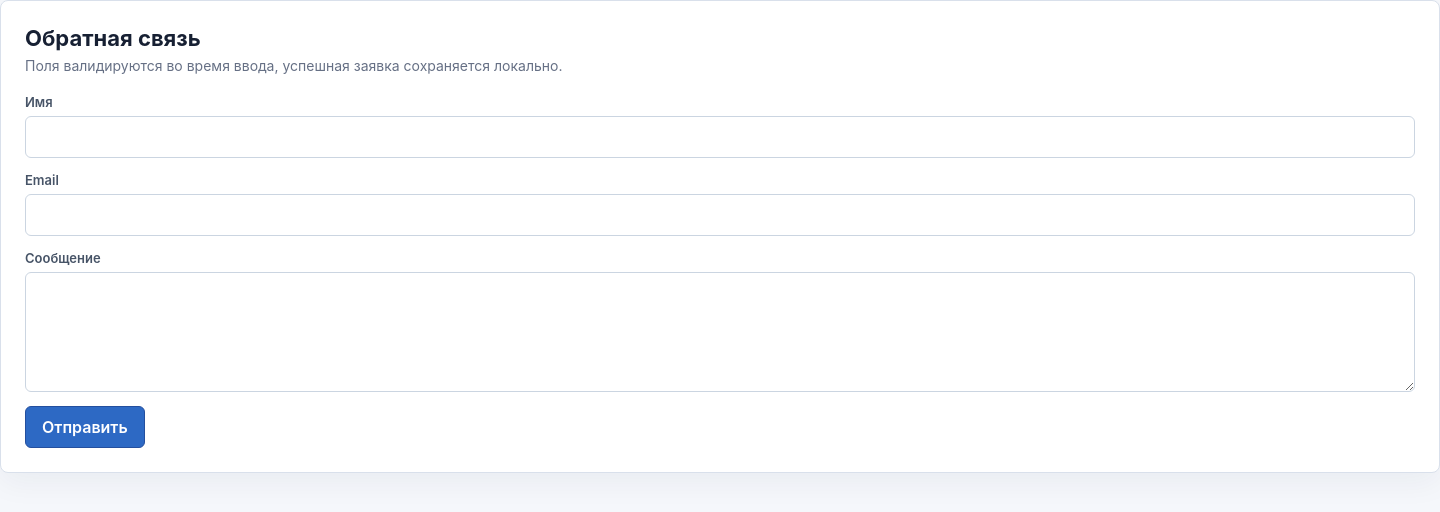
it: FeedbackForm › shows an error for invalid email
The width and height of the screenshot is (1440, 512).
In the field labelled "Имя": (720, 137) [25, 116, 1415, 158], type "Konstantin"
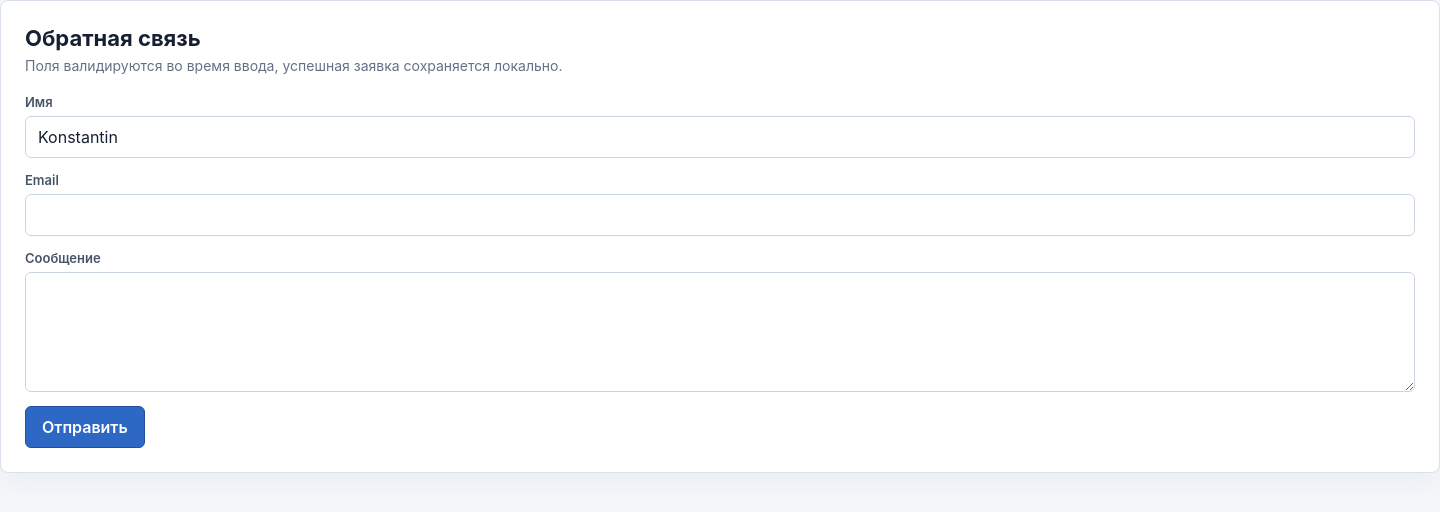
In the field labelled "Email": (720, 215) [25, 194, 1415, 236], type "wrong-email"
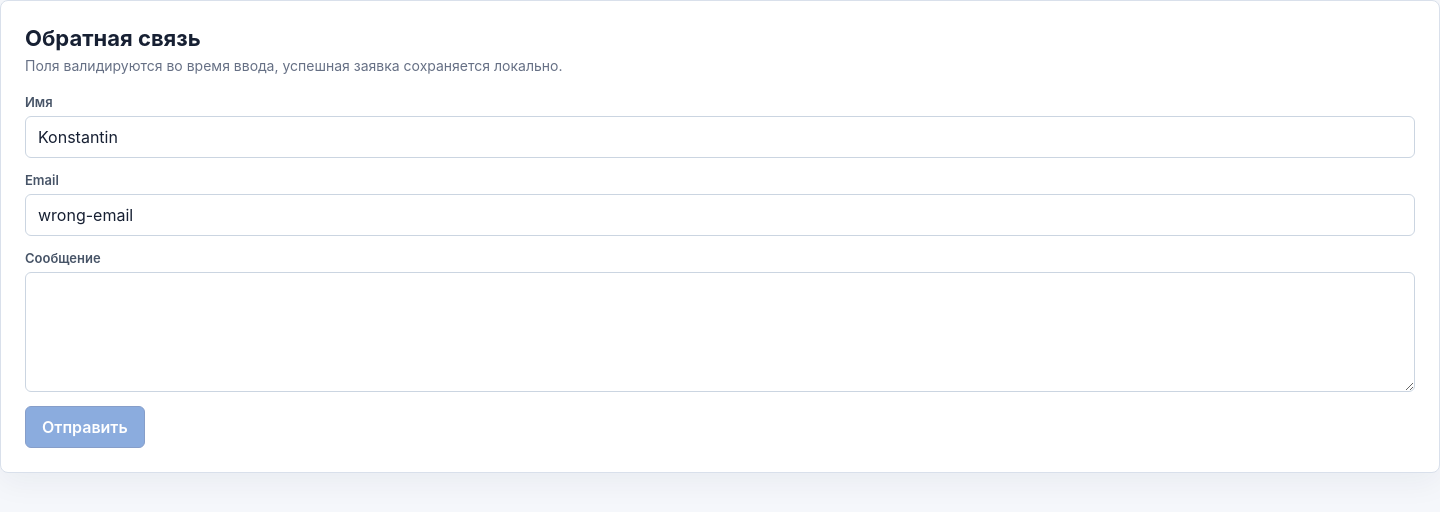
In the text box labelled "Сообщение": (720, 332) [25, 272, 1415, 392], type "Message long enough"
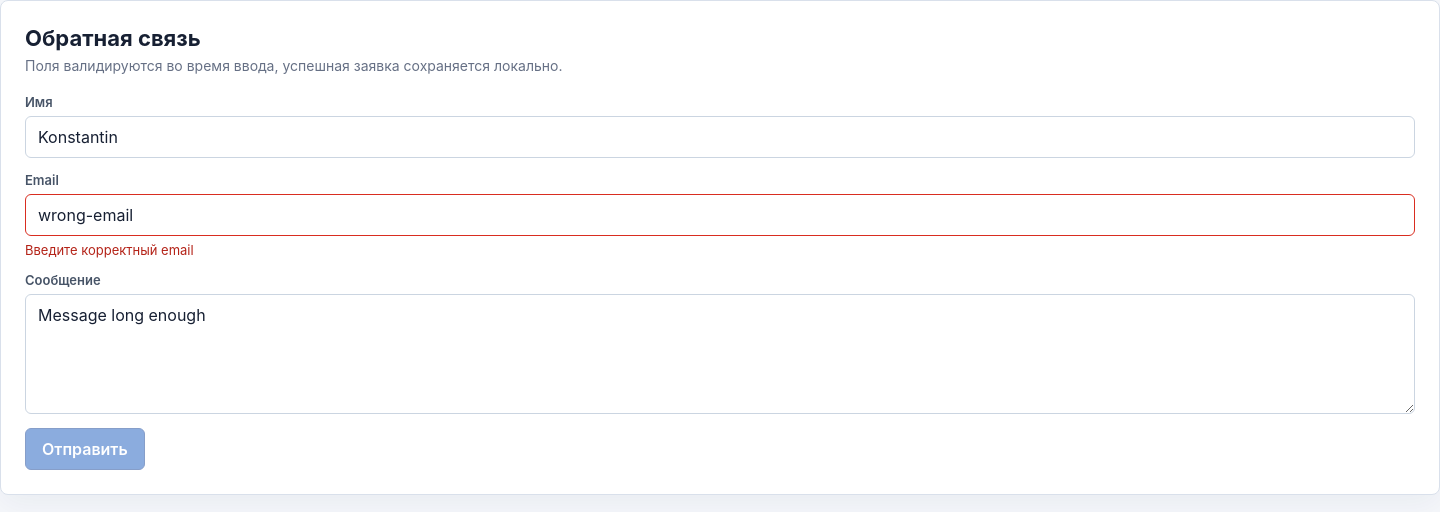
Check: the text "Введите корректный email" is shown, box [25, 242, 194, 258]
